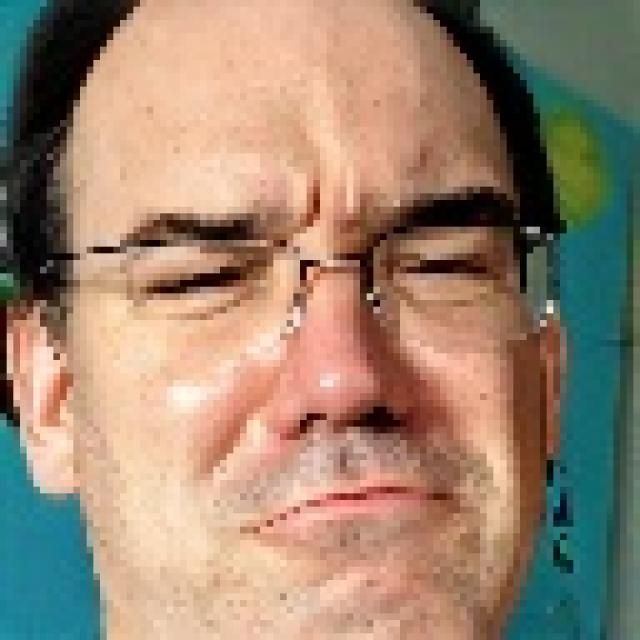angry: (74, 46, 558, 640)
